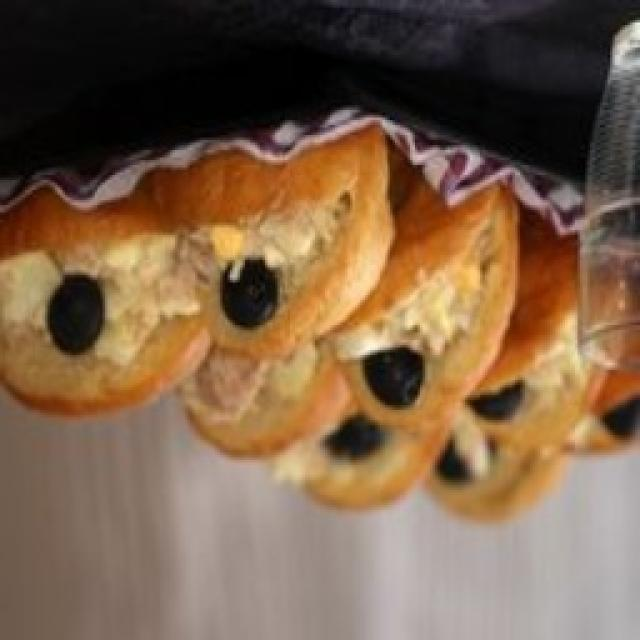Frecasse: (0, 105, 595, 512)
